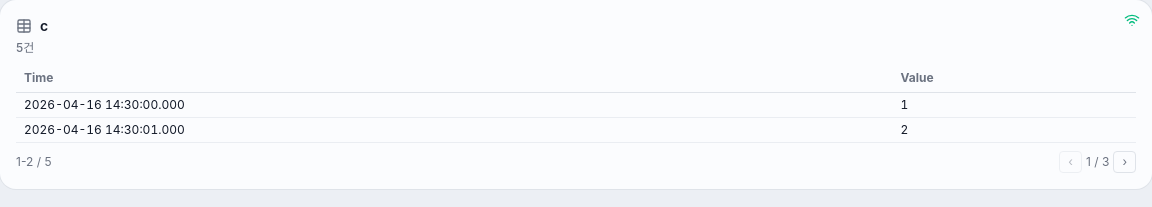
TablePanel › 페이지네이션: rows_per_page=2 에 5개 데이터 -> 3페이지
Expected: the text "1 / 3" is shown, [1086,154,1109,170]
Step 1. Click the button with test id "table-page-next" → click(1125, 162), box [1113,151,1136,173]
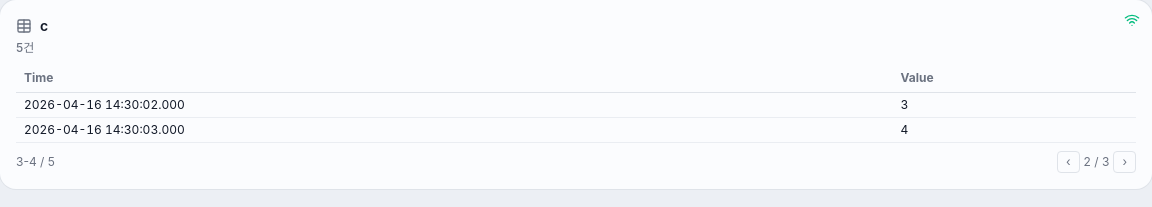
Expected: the text "2 / 3" is shown, [1084,154,1109,170]
Step 2. Click the button with test id "table-page-next" → click(1125, 162), box [1113,151,1136,173]
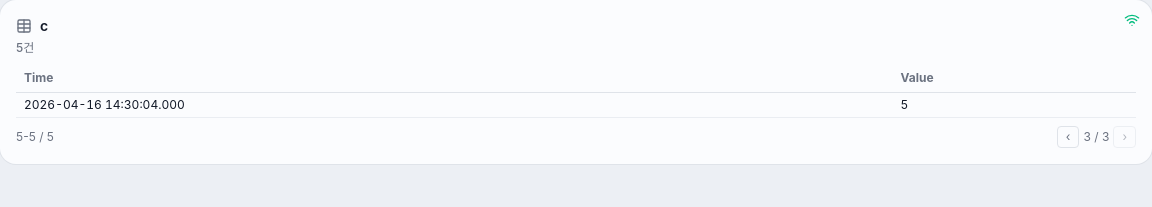
Expected: the button with test id "table-page-next" is disabled, [1113,126,1136,148]
Expected: the text "3 / 3" is shown, [1084,129,1109,145]
